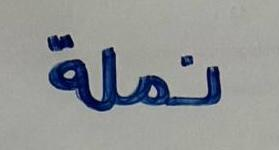lam: (93, 34, 122, 123)
meem: (124, 45, 171, 124)
noon: (173, 36, 233, 128)
teh_marbota: (35, 17, 91, 119)
